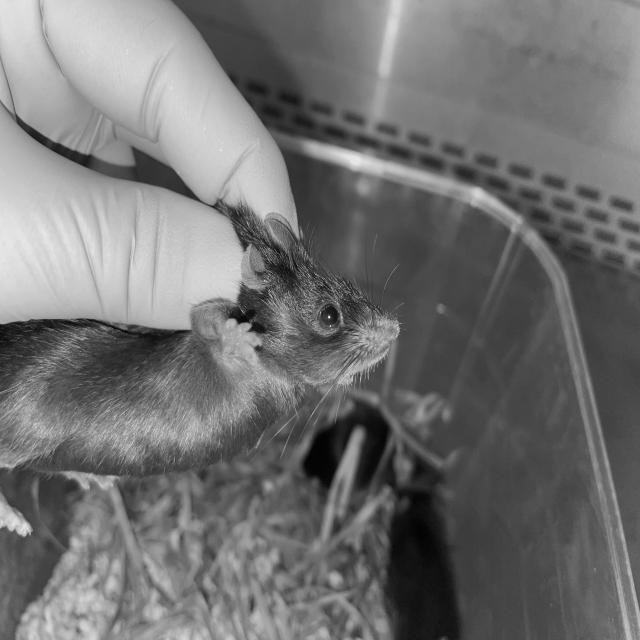Face: (238, 201, 402, 401)
